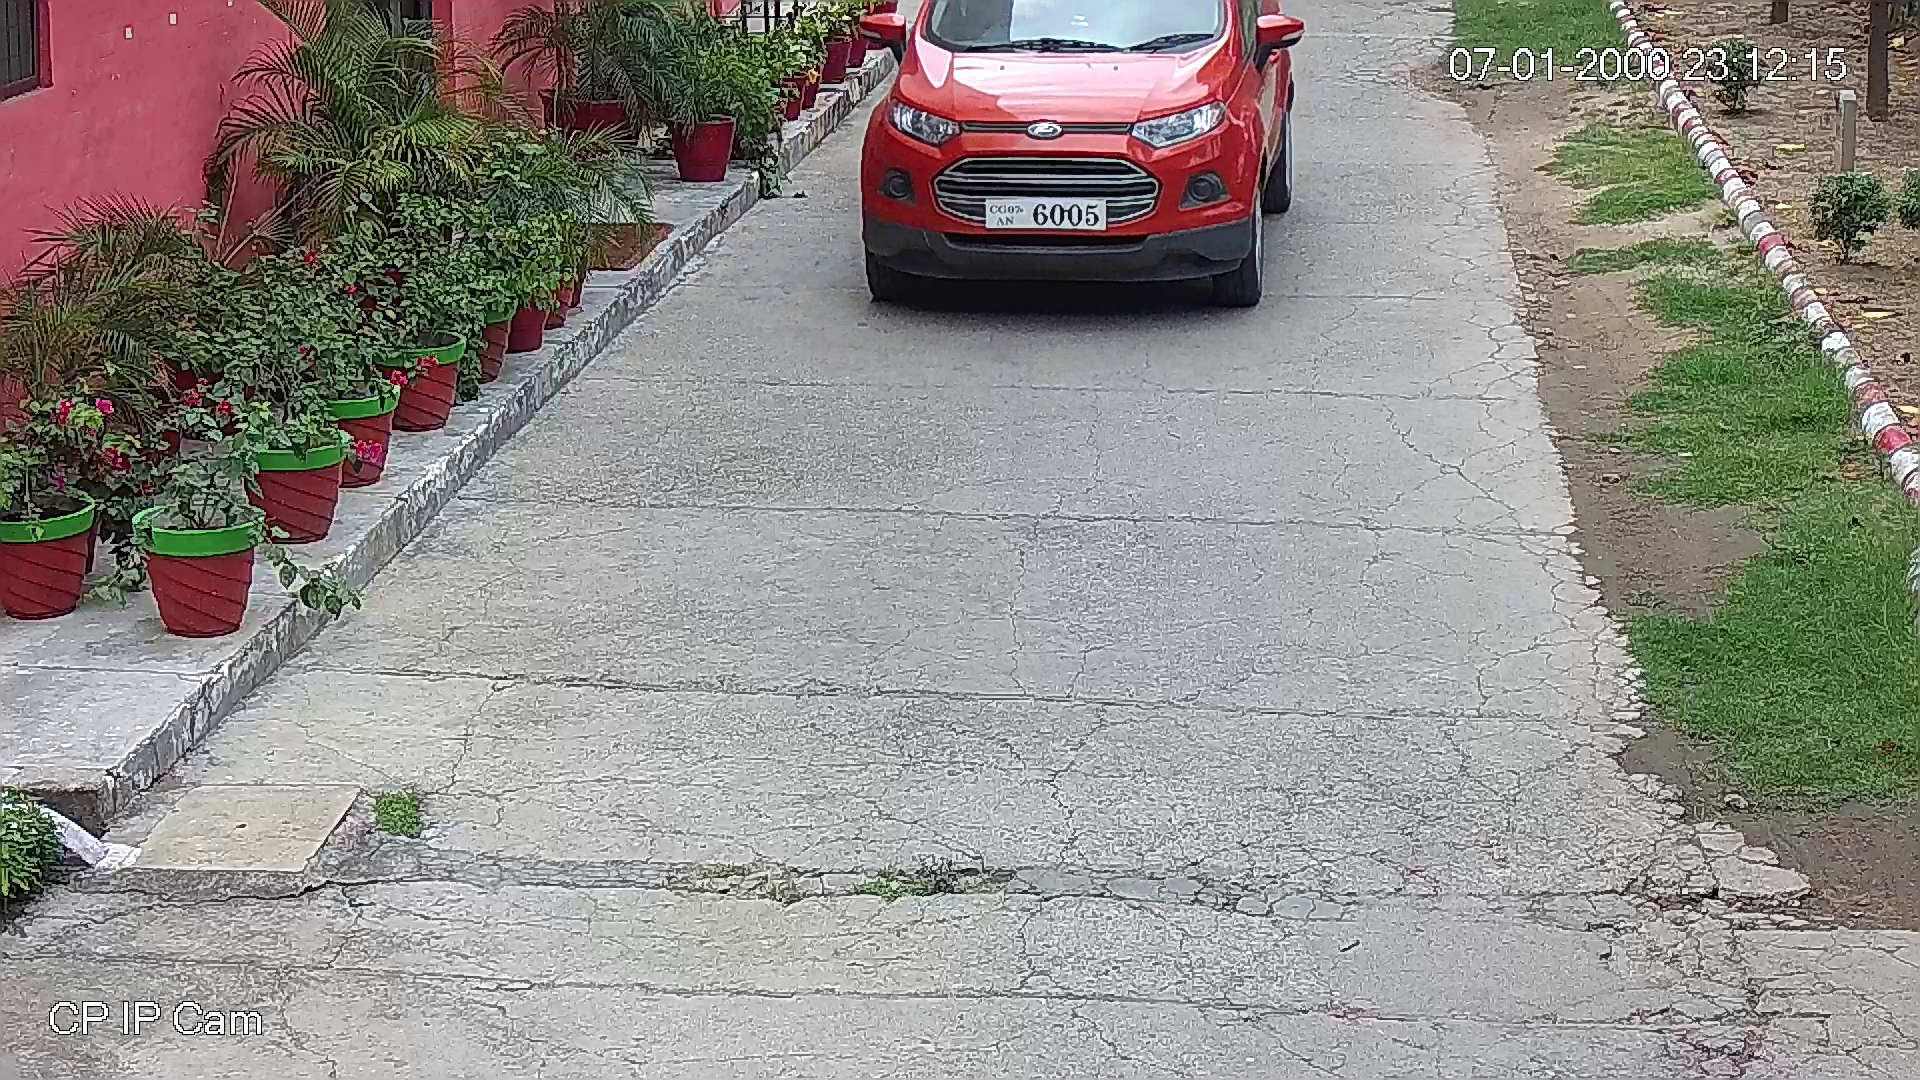plate: (986, 197, 1105, 227)
